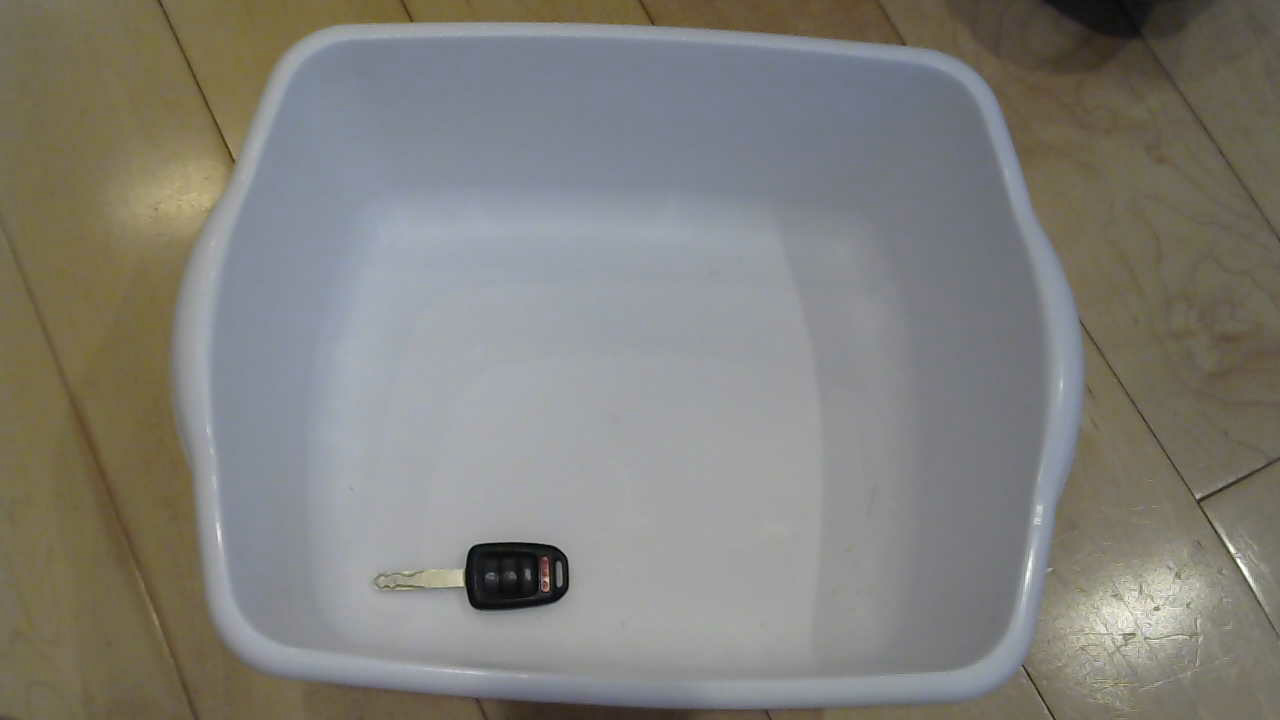key: (366, 537, 592, 638)
